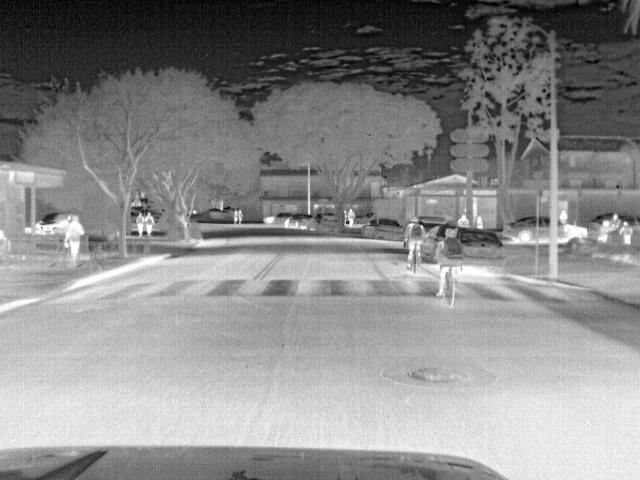car: (457, 227, 508, 273), (495, 213, 549, 246), (361, 217, 405, 243), (34, 211, 72, 235), (306, 211, 345, 232), (558, 220, 584, 246), (283, 212, 317, 229), (198, 207, 230, 223), (259, 212, 292, 225)
person: (434, 226, 463, 296), (63, 212, 87, 260), (402, 220, 424, 266), (595, 216, 612, 243), (609, 210, 625, 236), (619, 222, 634, 248), (141, 210, 156, 236), (134, 210, 146, 237), (345, 208, 357, 228), (473, 214, 485, 230), (236, 208, 245, 223), (232, 207, 239, 224)
